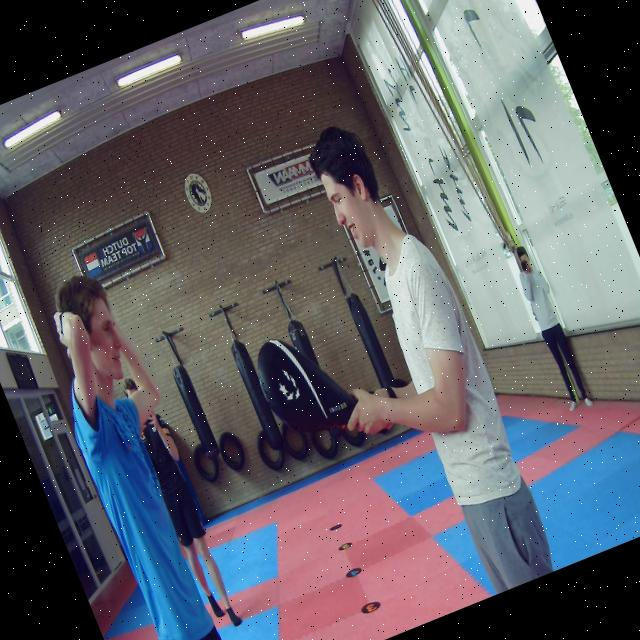paddle: (257, 337, 357, 435)
